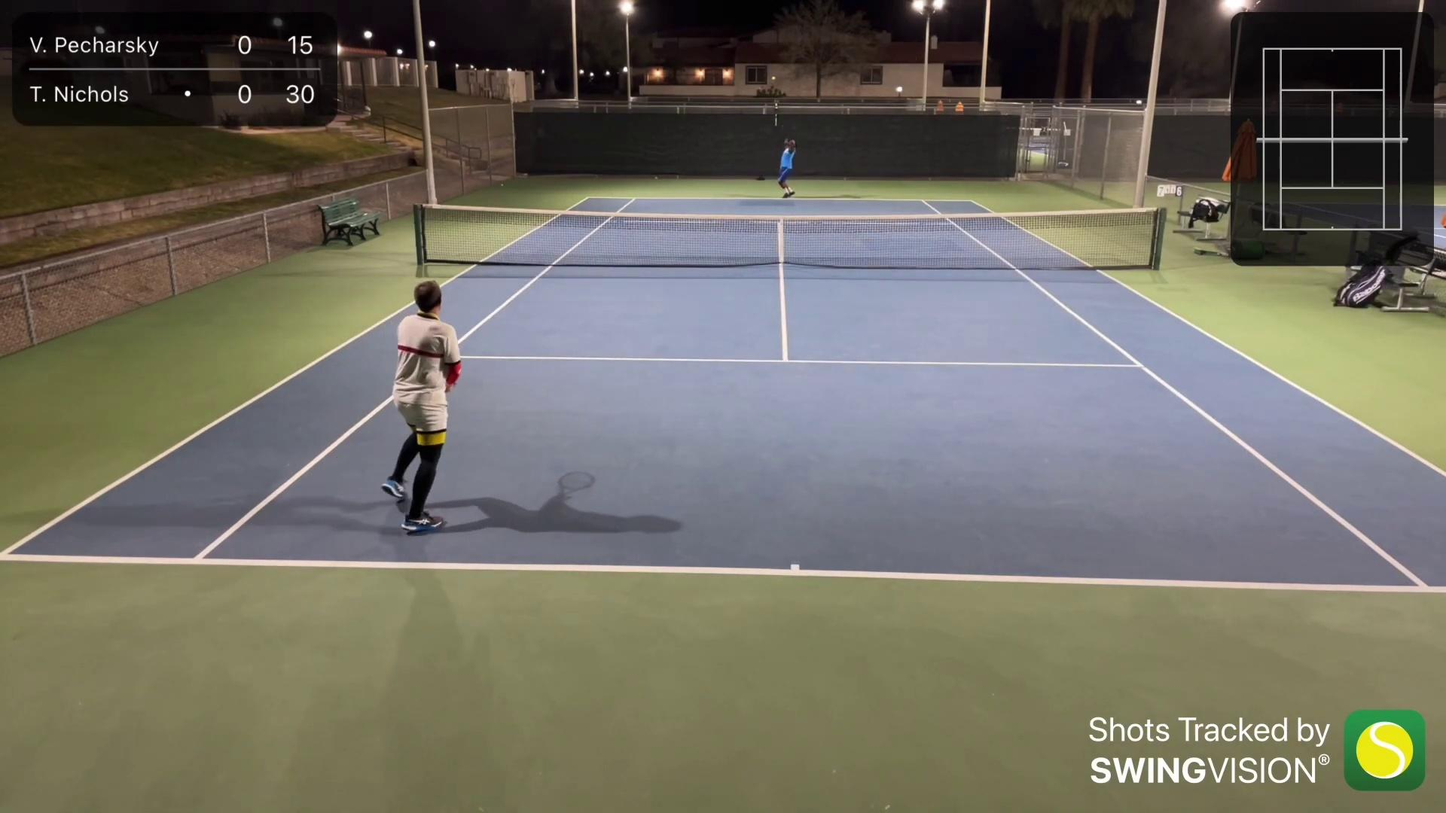ball: (771, 75, 776, 80)
